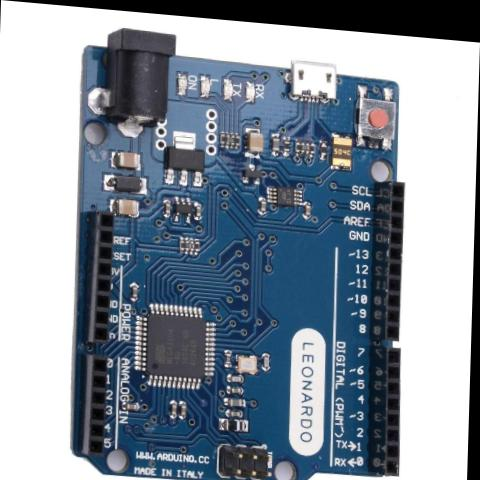Arduino-Leonardo: (44, 21, 433, 480)
